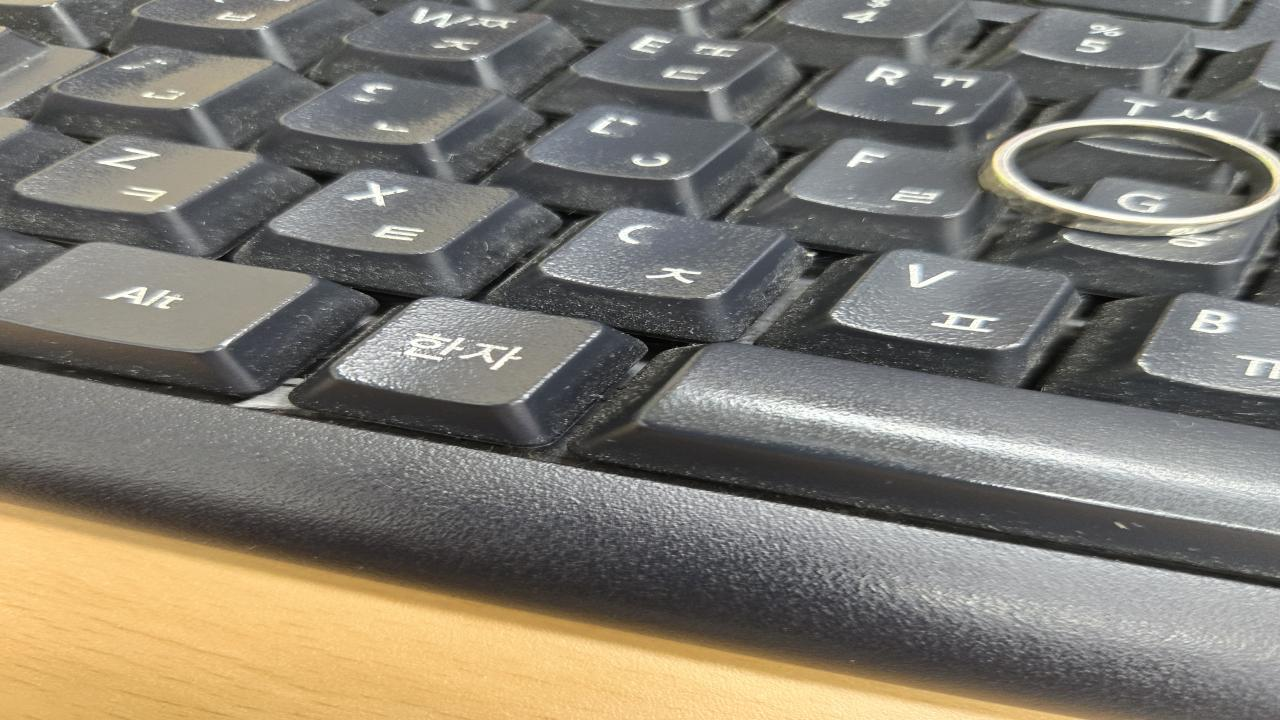ring: (977, 117, 1280, 238)
